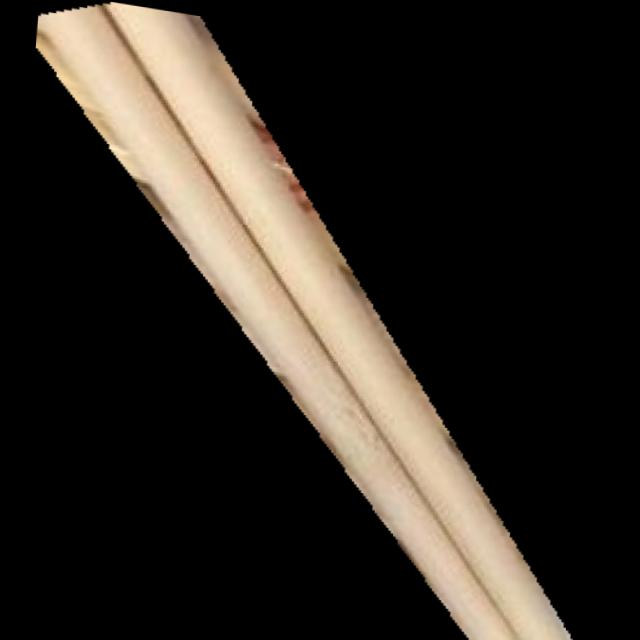others: (30, 1, 581, 640)
